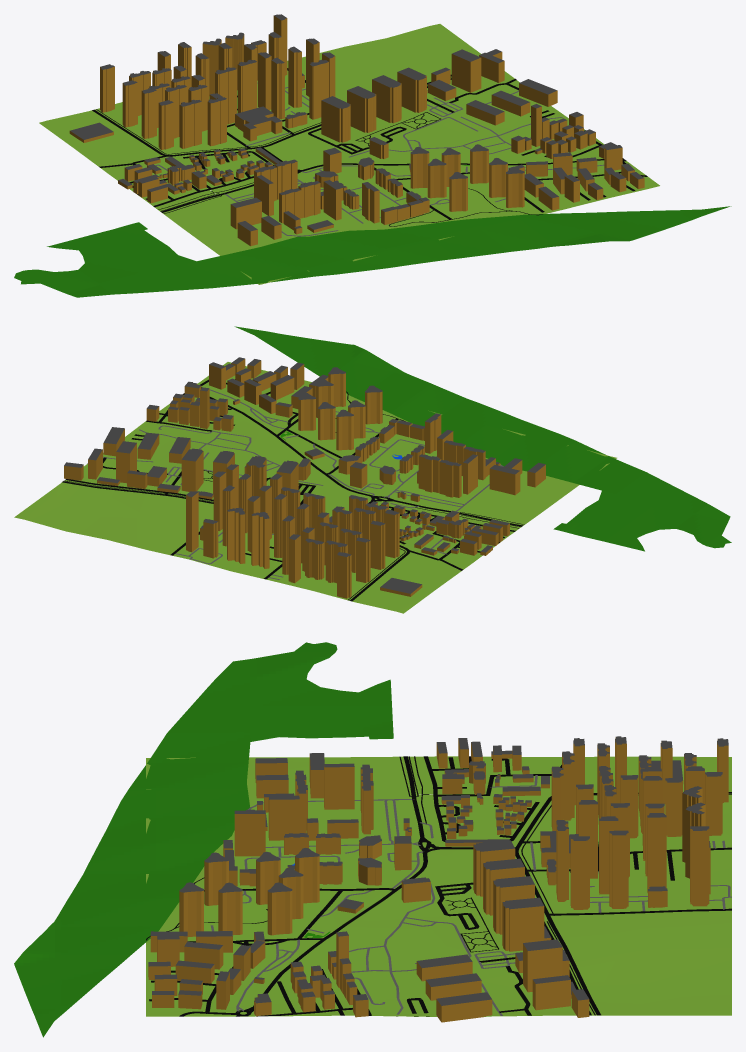
The model's file is tile_06_01.glb.
The picture shows the model from 3 angles, top to bottom: view 1: azimuth 30°, elevation 25°; view 2: azimuth 150°, elevation 25°; view 3: azimuth 270°, elevation 25°; orthographic projection. The views are drawn at different scales.
Parts seen in each view (by area): view 1: Ub_small.osm_buildings_06_01, Terrain_06_01, Ub_small.osm_forest_06_01, Ub_small.osm_roads_residential_06_01, Ub_small.osm_roads_service_06_01, Ub_small.osm_paths_footway_06_01, Ub_small.osm_roads_tertiary_06_01; view 2: Ub_small.osm_buildings_06_01, Terrain_06_01, Ub_small.osm_forest_06_01, Ub_small.osm_roads_residential_06_01, Ub_small.osm_roads_service_06_01, Ub_small.osm_roads_tertiary_06_01, Ub_small.osm_paths_footway_06_01; view 3: Ub_small.osm_buildings_06_01, Terrain_06_01, Ub_small.osm_forest_06_01, Ub_small.osm_roads_residential_06_01, Ub_small.osm_roads_service_06_01, Ub_small.osm_roads_tertiary_06_01, Ub_small.osm_paths_footway_06_01.
Boxes of the visible parts, x1=… form: Ub_small.osm_buildings_06_01: x1=69, y1=14, x2=644, y2=246; Terrain_06_01: x1=39, y1=24, x2=659, y2=284; Ub_small.osm_forest_06_01: x1=14, y1=206, x2=731, y2=297; Ub_small.osm_roads_residential_06_01: x1=92, y1=68, x2=647, y2=219; Ub_small.osm_roads_service_06_01: x1=142, y1=82, x2=604, y2=236; Ub_small.osm_paths_footway_06_01: x1=96, y1=77, x2=542, y2=226; Ub_small.osm_roads_tertiary_06_01: x1=161, y1=158, x2=626, y2=212; Ub_small.osm_buildings_06_01: x1=64, y1=357, x2=545, y2=598; Terrain_06_01: x1=14, y1=362, x2=616, y2=613; Ub_small.osm_forest_06_01: x1=234, y1=326, x2=731, y2=551; Ub_small.osm_roads_residential_06_01: x1=62, y1=379, x2=515, y2=601; Ub_small.osm_roads_service_06_01: x1=103, y1=389, x2=503, y2=579; Ub_small.osm_roads_tertiary_06_01: x1=201, y1=387, x2=522, y2=526; Ub_small.osm_paths_footway_06_01: x1=64, y1=391, x2=524, y2=600; Ub_small.osm_buildings_06_01: x1=148, y1=736, x2=728, y2=1022; Terrain_06_01: x1=146, y1=756, x2=731, y2=1016; Ub_small.osm_forest_06_01: x1=14, y1=642, x2=393, y2=1037; Ub_small.osm_roads_residential_06_01: x1=149, y1=756, x2=731, y2=1016; Ub_small.osm_roads_service_06_01: x1=210, y1=775, x2=731, y2=1016; Ub_small.osm_roads_tertiary_06_01: x1=235, y1=756, x2=431, y2=1016; Ub_small.osm_paths_footway_06_01: x1=146, y1=756, x2=731, y2=1016.
Size of the model in its own units: 1492 by 143 by 1140.
